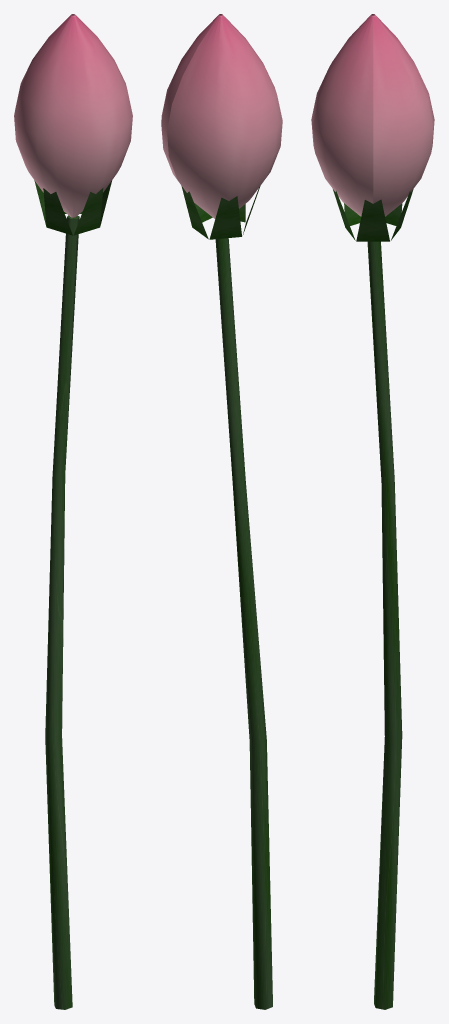
Rendered from lotus_bud_lod0.glb.
3 renders of one model, left to right at view 1: azimuth 90°, elevation 25°; view 2: azimuth 210°, elevation 25°; view 3: azimuth 270°, elevation 25°, orthographic. The views are drawn at different scales.
Parts seen in each view (by area): view 1: lotus_bud_L0__petal, lotus_bud_L0__leaf; view 2: lotus_bud_L0__petal, lotus_bud_L0__leaf; view 3: lotus_bud_L0__petal, lotus_bud_L0__leaf.
Part boxes in pixels (<box>): lotus_bud_L0__petal: <box>14,14,132,217</box>; lotus_bud_L0__leaf: <box>34,180,111,1009</box>; lotus_bud_L0__petal: <box>161,14,282,218</box>; lotus_bud_L0__leaf: <box>181,186,272,1009</box>; lotus_bud_L0__petal: <box>311,14,434,216</box>; lotus_bud_L0__leaf: <box>333,189,413,1009</box>.
Bounding box in the file's own units: 0.1816 × 1.64 × 0.1816.
2 materials, 2 textured.
